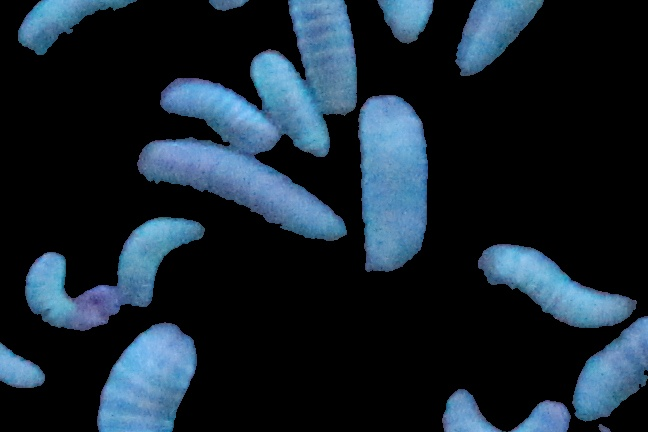larvae: (138, 139, 346, 243), (477, 242, 638, 327), (358, 94, 431, 274), (92, 322, 199, 432), (158, 76, 280, 153), (249, 49, 330, 157), (568, 314, 648, 420), (26, 244, 121, 330), (287, 1, 358, 115), (117, 217, 203, 309), (17, 1, 142, 55), (455, 1, 544, 72), (440, 386, 571, 432), (377, 1, 434, 45), (1, 341, 46, 391)
